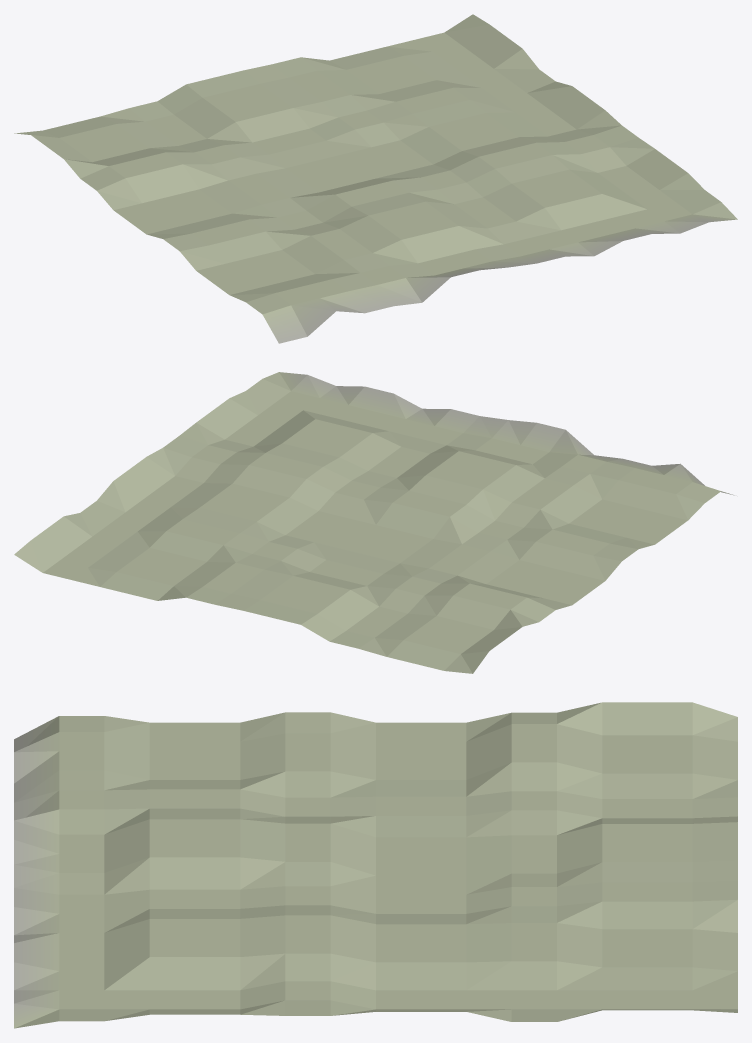
3 renders of one model, top to bottom at view 1: azimuth 30°, elevation 25°; view 2: azimuth 150°, elevation 25°; view 3: azimuth 270°, elevation 25°, orthographic. The views are drawn at different scales.
Bounding box in the file's own units: 32 × 1.8 × 32.
